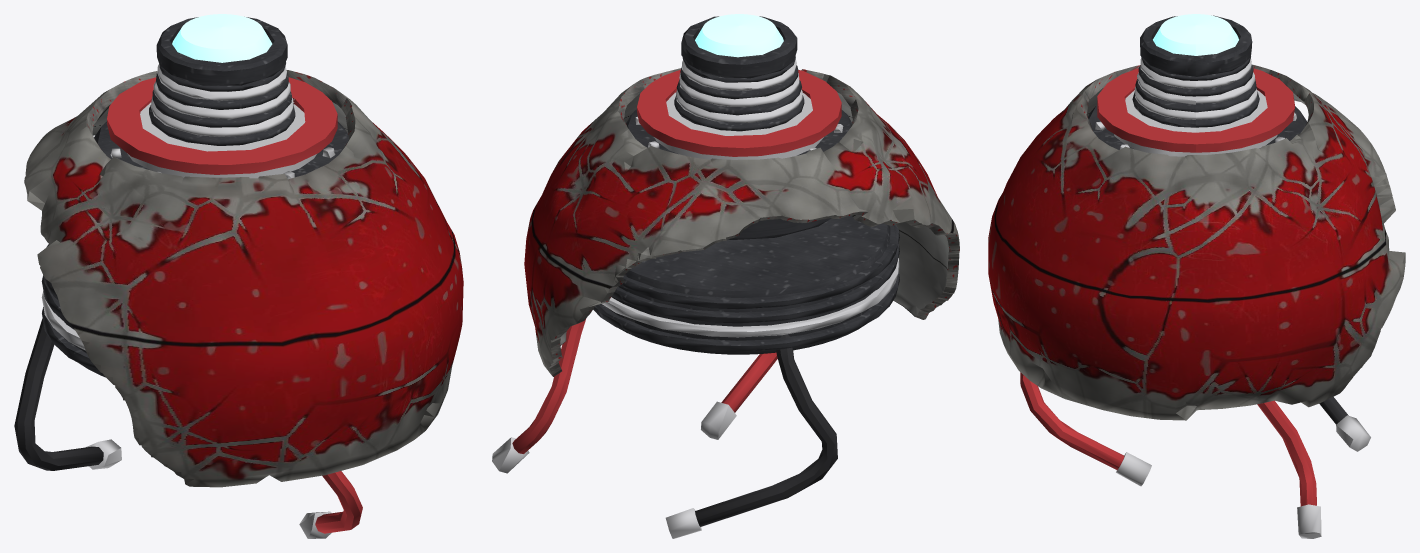
The model's file is baymax_joint_shell_lod1.glb.
3 renders of one model, left to right at view 1: azimuth 30°, elevation 25°; view 2: azimuth 150°, elevation 25°; view 3: azimuth 270°, elevation 25°, orthographic. The views are drawn at different scales.
Visible parts, largest first — view 1: baymax_joint_shell; view 2: baymax_joint_shell; view 3: baymax_joint_shell.
Boxes of the visible parts, x1,y1,x2,y2 form: baymax_joint_shell: (14, 14, 463, 538); baymax_joint_shell: (492, 14, 959, 538); baymax_joint_shell: (988, 14, 1405, 538).
Size of the model in its own units: 0.5347 by 0.6334 by 0.5508.
Materials: 8 (4 with a texture image).
